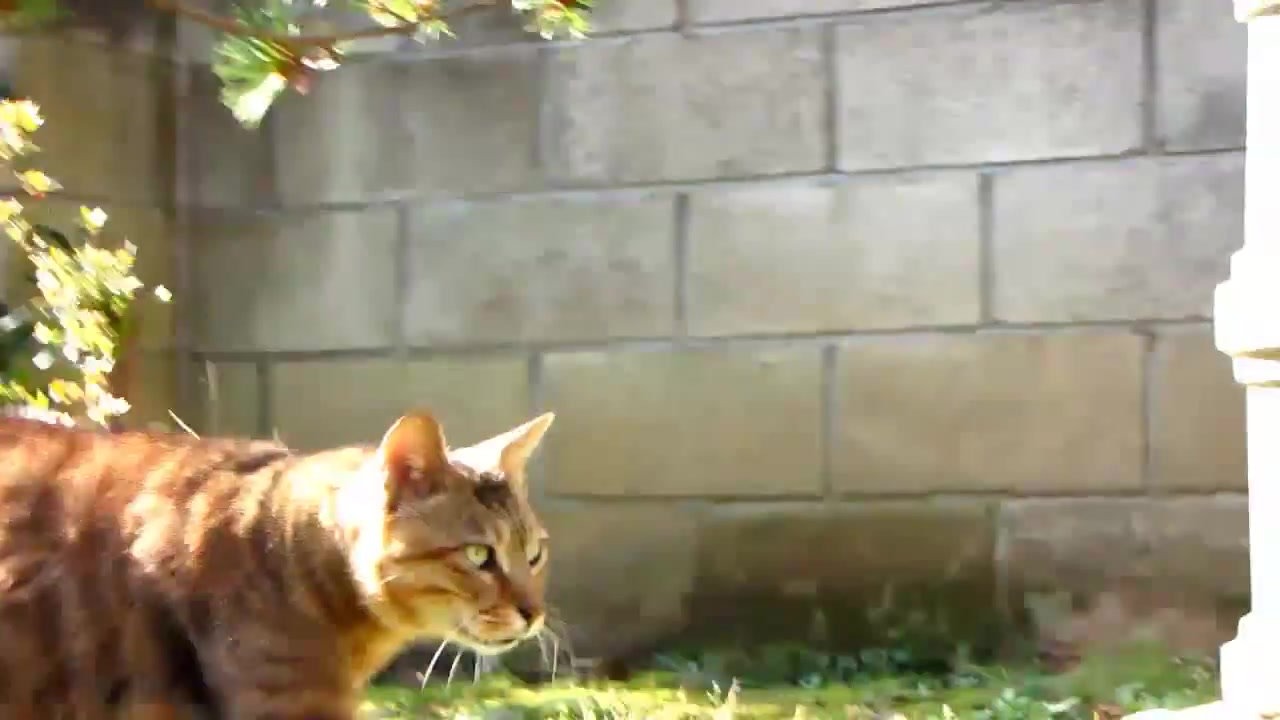cat: (1, 403, 575, 719)
